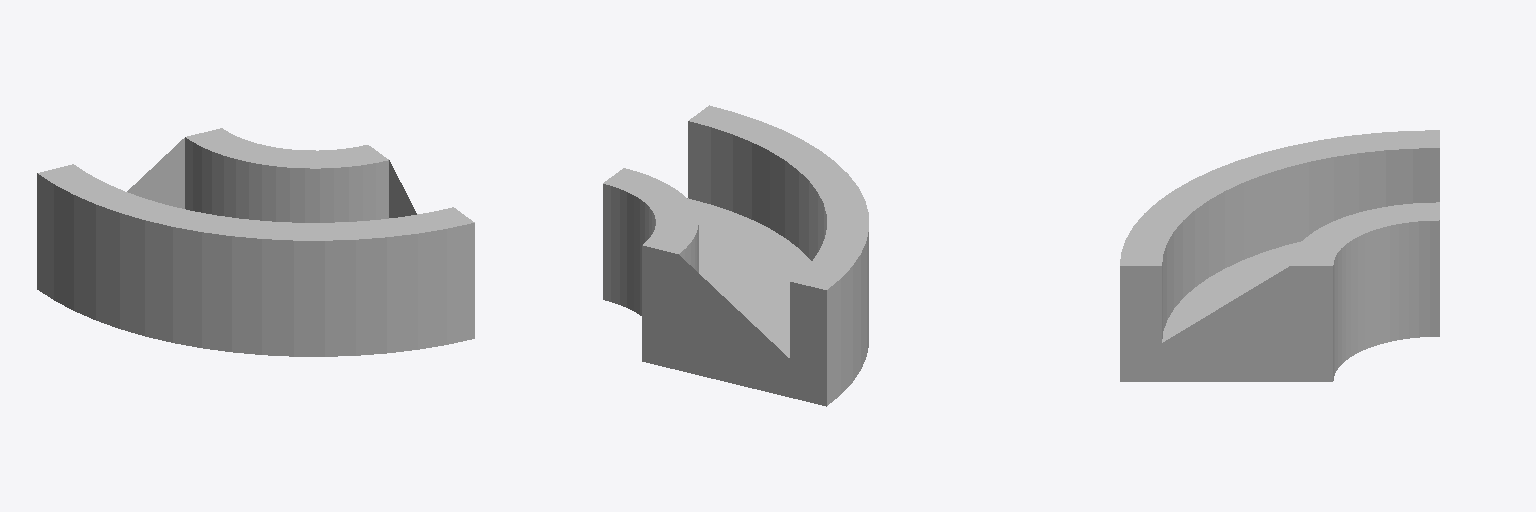
Rendered from CornerThin_.obj.
The picture shows the model from 3 angles: view 1: azimuth 30°, elevation 25°; view 2: azimuth 150°, elevation 25°; view 3: azimuth 270°, elevation 25°; orthographic projection.
Parts seen in each view (by area): view 1: CornerThin_; view 2: CornerThin_; view 3: CornerThin_.
Part boxes in pixels (left/top/right/bottom): CornerThin_: left=37, top=128, right=474, bottom=356; CornerThin_: left=603, top=105, right=868, bottom=406; CornerThin_: left=1120, top=130, right=1439, bottom=381.
Size of the model in its own units: 1.5 by 0.6 by 1.5.